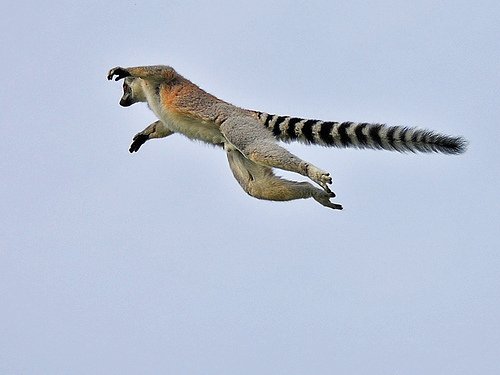cat: (107, 64, 469, 212)
